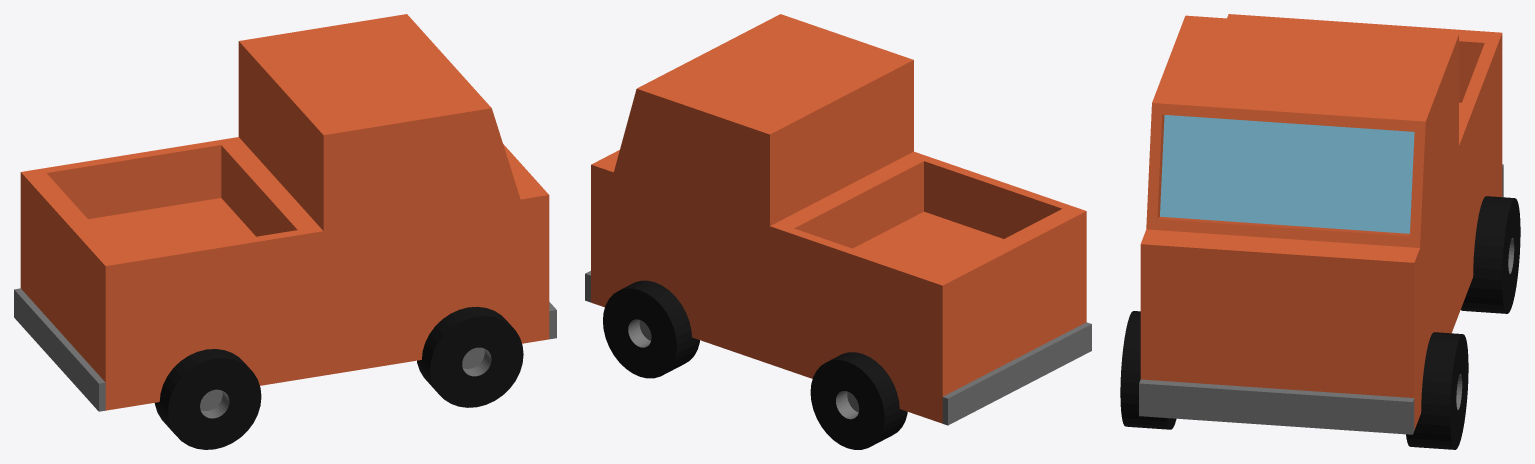
Rendered from truck-B54o4TId.glb.
3 renders of one model, left to right at view 1: azimuth 30°, elevation 25°; view 2: azimuth 150°, elevation 25°; view 3: azimuth 270°, elevation 25°, orthographic. The views are drawn at different scales.
Parts seen in each view (by area): view 1: Cube.001; view 2: Cube.001; view 3: Cube.001.
Part boxes in pixels (<box>): Cube.001: <box>14,14,556,449</box>; Cube.001: <box>585,14,1091,449</box>; Cube.001: <box>1120,14,1520,449</box>.
Size of the model in its own units: 0.9582 by 0.5808 by 0.6321.
